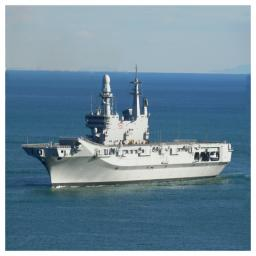Portanaves: (21, 64, 235, 190)
